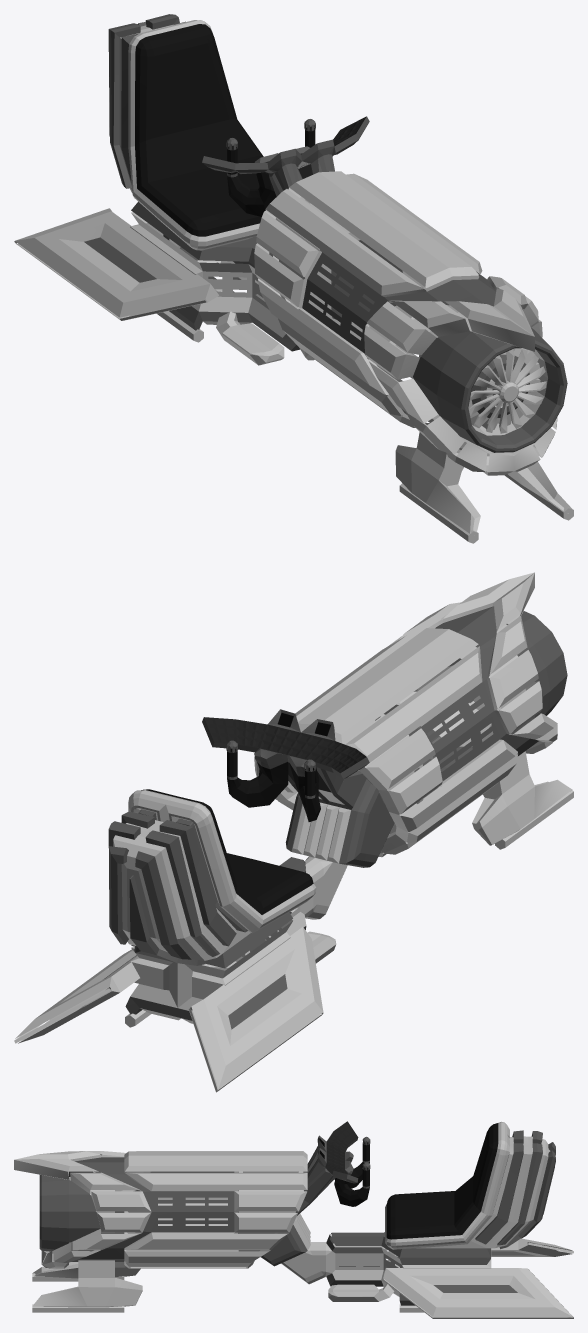
3 views of the same model, one above another, from view 1: azimuth 30°, elevation 25°; view 2: azimuth 150°, elevation 25°; view 3: azimuth 270°, elevation 25° (orthographic). The views are drawn at different scales.
Visible parts, largest first — view 1: ls-340; view 2: ls-340; view 3: ls-340.
Boxes of the visible parts, x1,y1,x2,y2 form: ls-340: (14, 14, 573, 543); ls-340: (14, 572, 573, 1092); ls-340: (14, 1121, 573, 1318).
Size of the model in its own units: 2.1 by 7.49 by 2.45.
